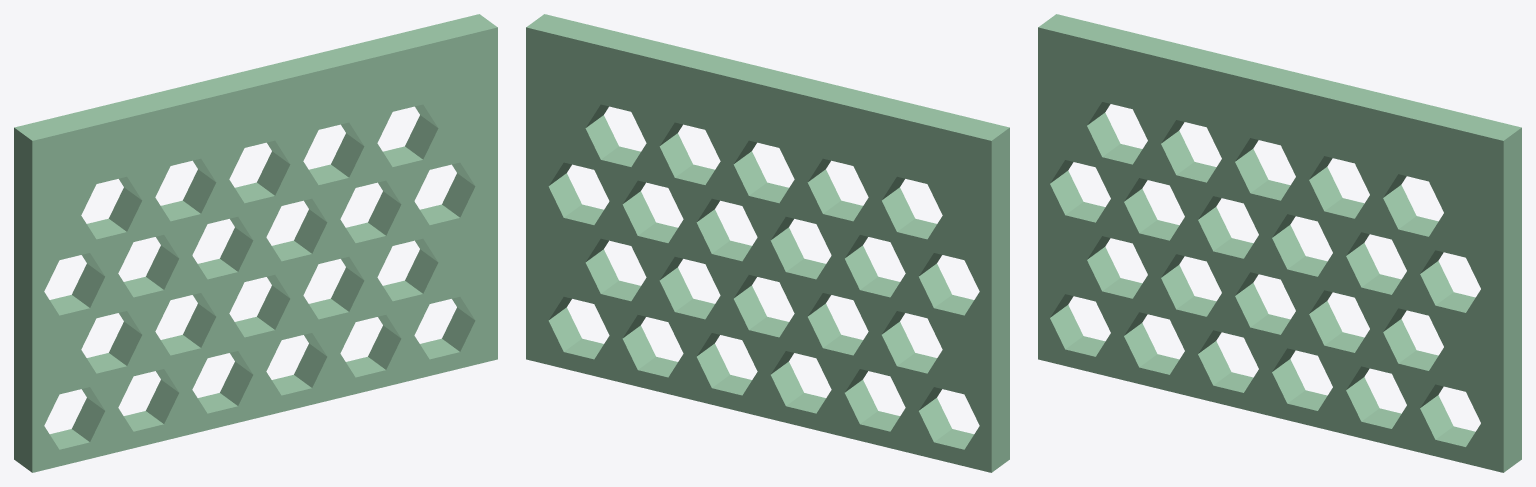
The model's file is lighten_grid_demo.glb.
3 renders of one model, left to right at view 1: azimuth 30°, elevation 25°; view 2: azimuth 150°, elevation 25°; view 3: azimuth 330°, elevation 25°, orthographic.
Parts seen in each view (by area): view 1: lightened_panel; view 2: lightened_panel; view 3: lightened_panel.
Boxes of the visible parts, x1=… form: lightened_panel: x1=14, y1=14, x2=497, y2=472; lightened_panel: x1=526, y1=14, x2=1009, y2=472; lightened_panel: x1=1038, y1=14, x2=1521, y2=472.
Bounding box in the file's own units: 44 × 30 × 3.
